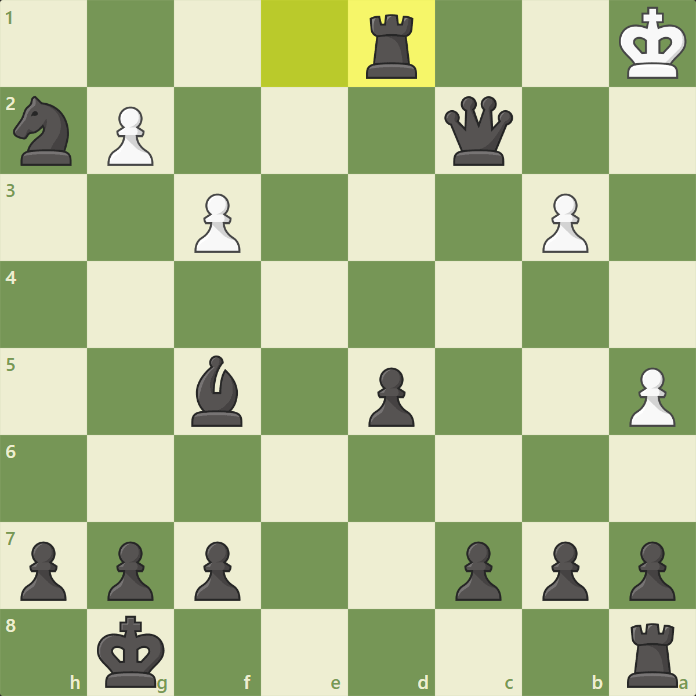K: (617, 5, 690, 82)
P: (628, 365, 677, 430), (541, 192, 590, 257), (193, 191, 242, 256), (106, 104, 155, 169)
b: (188, 353, 246, 430)
k: (94, 614, 166, 690)
n: (11, 94, 76, 169)
p: (17, 539, 68, 604), (104, 538, 155, 603), (190, 538, 241, 603), (452, 538, 503, 603), (539, 537, 590, 602), (626, 537, 677, 602), (365, 365, 416, 430)
q: (442, 93, 515, 170)
r: (362, 12, 421, 83), (624, 621, 681, 691)
